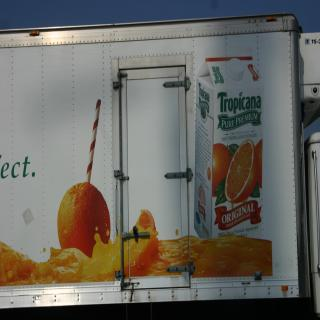Orange: (55, 182, 109, 258), (127, 210, 157, 274), (226, 138, 256, 202), (211, 144, 231, 201), (257, 139, 261, 192)
